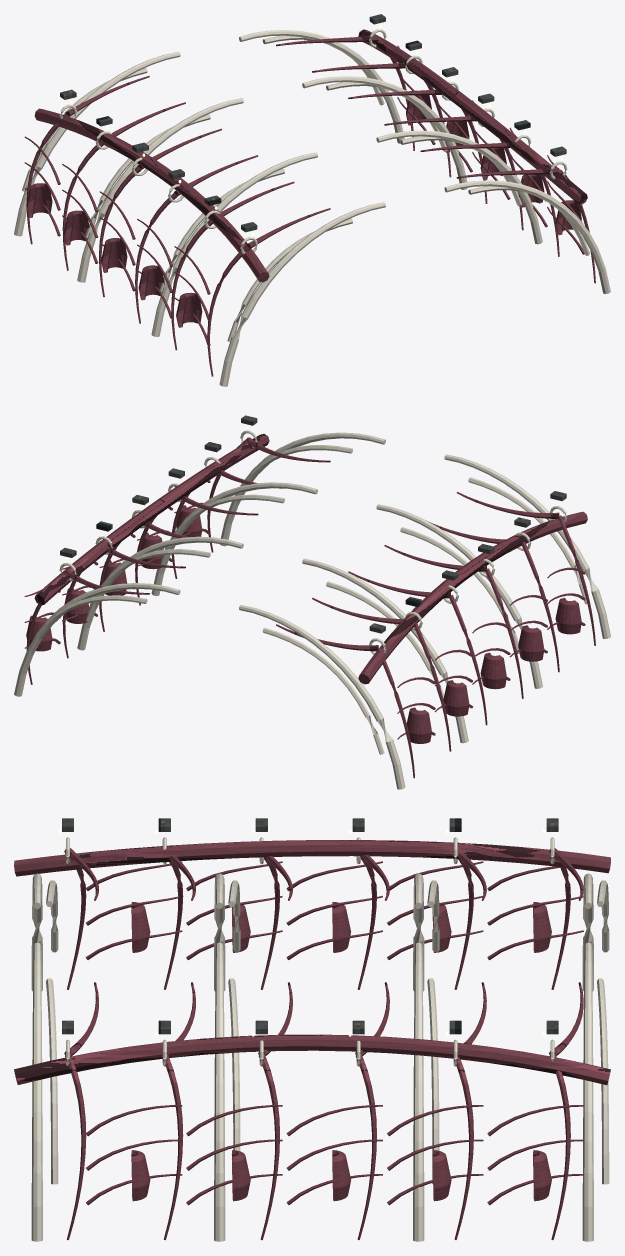
File: heart_arterial_vault.glb
3 views of the same model, one above another, from view 1: azimuth 30°, elevation 25°; view 2: azimuth 150°, elevation 25°; view 3: azimuth 270°, elevation 25° (orthographic). The views are drawn at different scales.
Parts seen in each view (by area): view 1: heart_arterial_vault_bruised, heart_arterial_vault_warm, heart_arterial_vault_petrol; view 2: heart_arterial_vault_bruised, heart_arterial_vault_warm, heart_arterial_vault_petrol; view 3: heart_arterial_vault_bruised, heart_arterial_vault_warm, heart_arterial_vault_petrol.
Part boxes in pixels (x1,y1,x2,y2): heart_arterial_vault_bruised: [24, 29, 595, 376]; heart_arterial_vault_warm: [14, 29, 610, 386]; heart_arterial_vault_petrol: [60, 14, 566, 232]; heart_arterial_vault_bruised: [24, 434, 595, 778]; heart_arterial_vault_warm: [14, 430, 610, 789]; heart_arterial_vault_petrol: [60, 415, 566, 633]; heart_arterial_vault_bruised: [14, 840, 610, 1240]; heart_arterial_vault_warm: [31, 837, 609, 1241]; heart_arterial_vault_petrol: [62, 818, 558, 1034].
Bounding box in the file's own units: 10.86 × 3.72 × 10.35.
Materials: 4 (2 with a texture image).
